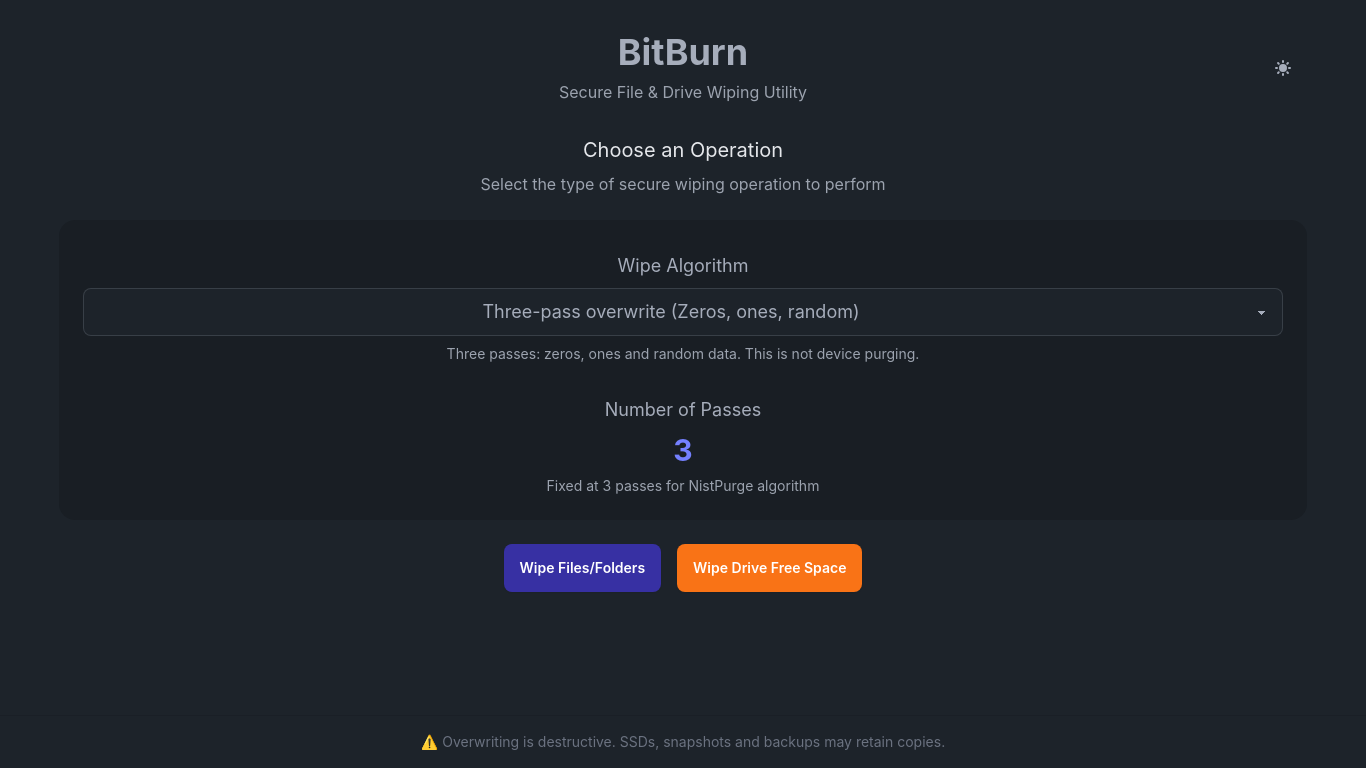
Test: BitBurn UI Tests › File Selection Mode › should return to initial mode when clicking back button
This screenshot has width=1366, height=768.
Click the button "Wipe Files/Folders" at (582, 568), box [504,544,661,592]
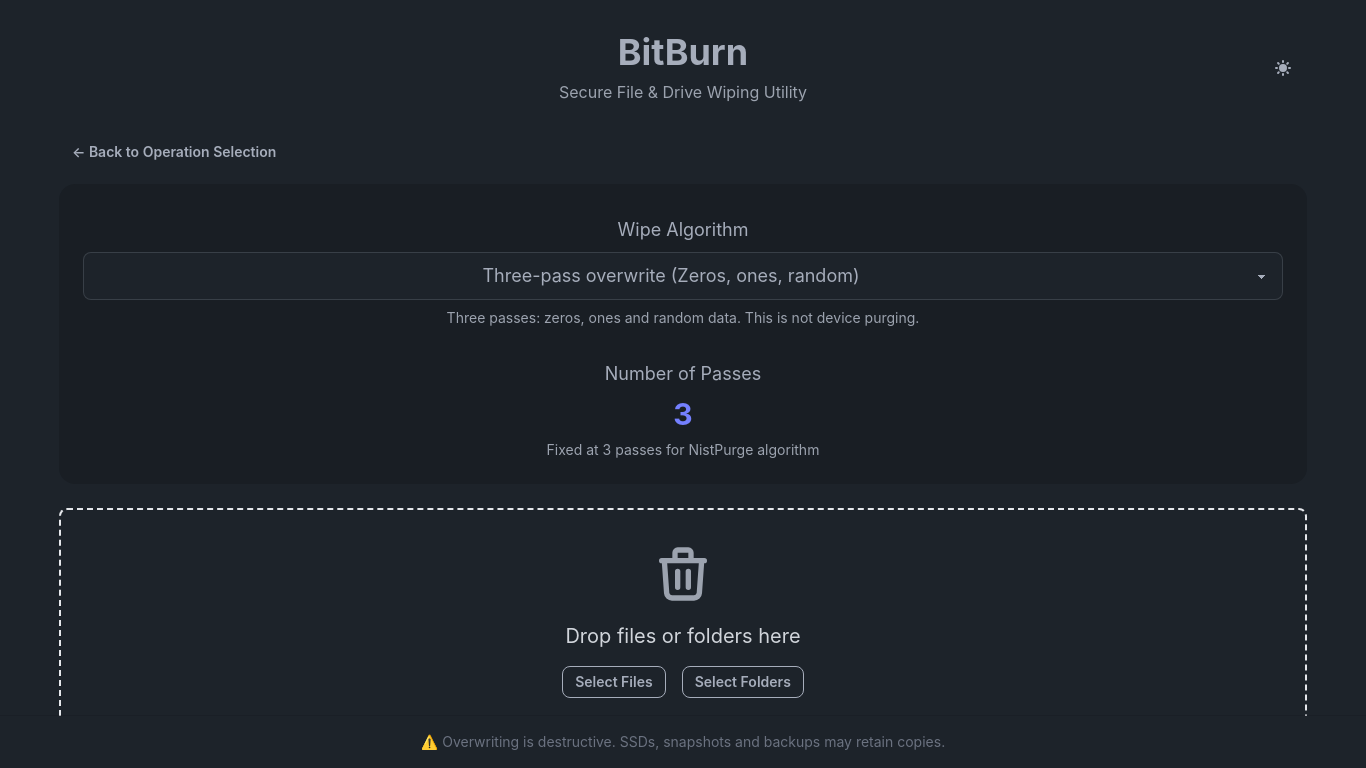
Click the button "← Back to Operation Selection" at (174, 152), box [59,136,289,168]
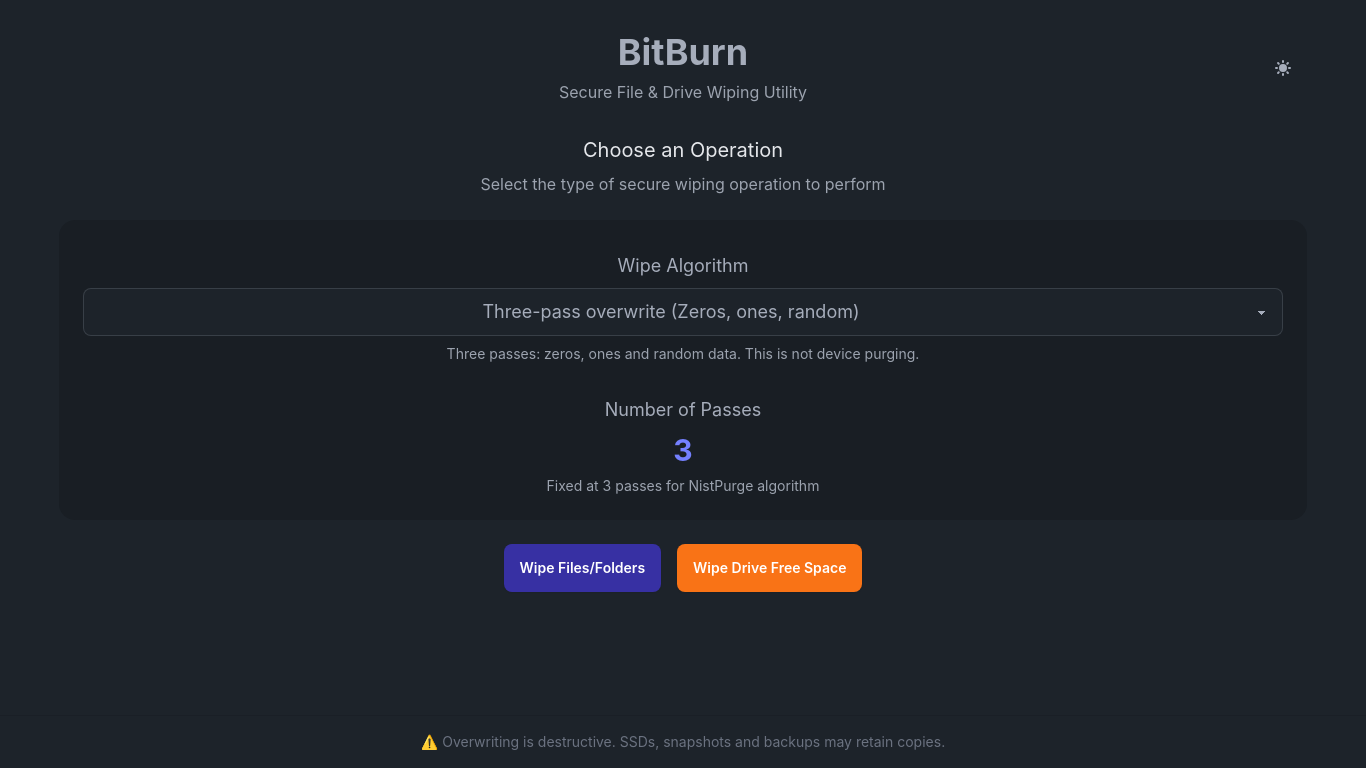
Now the text "Select the type of secure wiping operation to perform" is shown, box [480,172,886,196]
